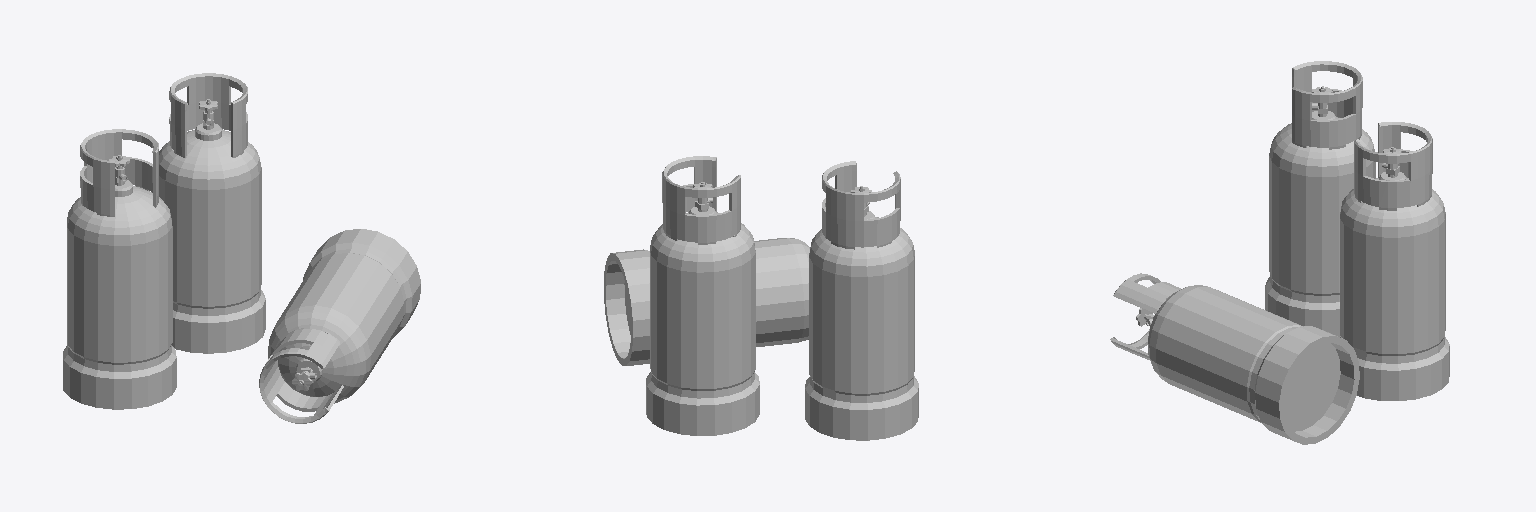
File: bottles.obj
The picture shows the model from 3 angles: view 1: azimuth 30°, elevation 25°; view 2: azimuth 150°, elevation 25°; view 3: azimuth 270°, elevation 25°; orthographic projection.
Parts seen in each view (by area): view 1: gas_bottle_fire_gas_bottle_fire_0, gas_bottle_clean_gas_bottle_clean_0, gas_bottle_dirt_gas_bottle_dirt_0; view 2: gas_bottle_clean_gas_bottle_clean_0, gas_bottle_fire_gas_bottle_fire_0, gas_bottle_dirt_gas_bottle_dirt_0; view 3: gas_bottle_clean_gas_bottle_clean_0, gas_bottle_dirt_gas_bottle_dirt_0, gas_bottle_fire_gas_bottle_fire_0.
Boxes of the visible parts, box(x1,y1,x2,y2) form: gas_bottle_fire_gas_bottle_fire_0: box(63, 129, 176, 409); gas_bottle_clean_gas_bottle_clean_0: box(159, 73, 265, 353); gas_bottle_dirt_gas_bottle_dirt_0: box(259, 229, 420, 423); gas_bottle_clean_gas_bottle_clean_0: box(646, 156, 759, 435); gas_bottle_fire_gas_bottle_fire_0: box(805, 161, 918, 440); gas_bottle_dirt_gas_bottle_dirt_0: box(604, 238, 809, 365); gas_bottle_clean_gas_bottle_clean_0: box(1340, 122, 1449, 400); gas_bottle_dirt_gas_bottle_dirt_0: box(1110, 273, 1359, 444); gas_bottle_fire_gas_bottle_fire_0: box(1265, 61, 1375, 336).
Size of the model in its own units: 0.152 by 0.1082 by 0.1355.